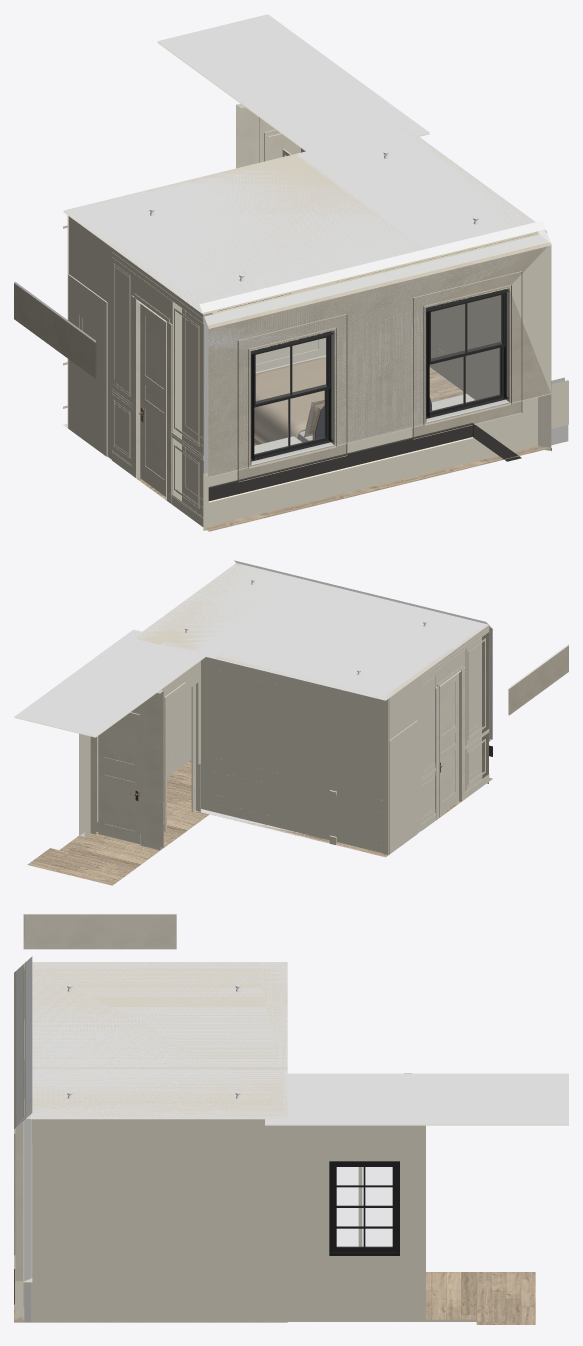
Rendered from blue-bedroom-c888a7fa9426.glb.
3 views of the same model, one above another, from view 1: azimuth 30°, elevation 25°; view 2: azimuth 150°, elevation 25°; view 3: azimuth 270°, elevation 25° (orthographic). The views are drawn at different scales.
Visible parts, largest first — view 1: blue-bedroom-9d91b47435c6fb33, blue-bedroom-bddaf205afbd60c0, blue-bedroom-look-9d91b47435c6fb33, blue-bedroom-e8793759323e04f0, blue-bedroom-df3e1f21720b0c39, blue-bedroom-2f7d8eff34a2c180, blue-bedroom-ed5fdcd3ee9c0dd5, blue-bedroom-3c3de67e8dd93323, blue-bedroom-649b3532e9781727, blue-bedroom-64753ebcb3824a84, blue-bedroom-746250f96522f643, blue-bedroom-ead09a0b3f9e3bd9 (+16 smaller); view 2: blue-bedroom-6e269356ae8bfd70, blue-bedroom-9d91b47435c6fb33, blue-bedroom-look-9d91b47435c6fb33, blue-bedroom-ed5fdcd3ee9c0dd5, blue-bedroom-e8793759323e04f0, blue-bedroom-look-2575515a05775d9e, blue-bedroom-look-dcc0092055abeaa8, blue-bedroom-look-eb02897c2e79e2b1, blue-bedroom-ead09a0b3f9e3bd9, blue-bedroom-3e649b0d114ae387, blue-bedroom-bf159a19de53e60e, blue-bedroom-746250f96522f643 (+13 smaller); view 3: blue-bedroom-746250f96522f643, blue-bedroom-9d91b47435c6fb33, blue-bedroom-e8793759323e04f0, blue-bedroom-look-746250f96522f643, blue-bedroom-look-9d91b47435c6fb33, blue-bedroom-look-5035c6783c6505b3, blue-bedroom-look-2575515a05775d9e, blue-bedroom-look-3a4d9d62ecd7be1c, blue-bedroom-0a6e1f8a567f4490, blue-bedroom-64753ebcb3824a84, blue-bedroom-2575515a05775d9e, blue-bedroom-49f6d498b24b79cd.
Part boxes in pixels (x1,y1,x2,y2): blue-bedroom-9d91b47435c6fb33: (63,127,538,314); blue-bedroom-bddaf205afbd60c0: (207,242,550,476); blue-bedroom-look-9d91b47435c6fb33: (157,14,429,151); blue-bedroom-e8793759323e04f0: (64,127,545,312); blue-bedroom-df3e1f21720b0c39: (208,243,551,475); blue-bedroom-2f7d8eff34a2c180: (203,393,551,530); blue-bedroom-ed5fdcd3ee9c0dd5: (67,215,181,500); blue-bedroom-3c3de67e8dd93323: (251,330,333,461); blue-bedroom-649b3532e9781727: (426,289,509,418); blue-bedroom-64753ebcb3824a84: (204,234,548,476); blue-bedroom-746250f96522f643: (398,234,532,399); blue-bedroom-ead09a0b3f9e3bd9: (68,274,107,456); blue-bedroom-6e269356ae8bfd70: (200,656,389,855); blue-bedroom-9d91b47435c6fb33: (134,564,488,700); blue-bedroom-look-9d91b47435c6fb33: (14,629,205,737); blue-bedroom-ed5fdcd3ee9c0dd5: (382,641,465,854); blue-bedroom-e8793759323e04f0: (136,560,488,699); blue-bedroom-look-2575515a05775d9e: (27,803,209,885); blue-bedroom-look-dcc0092055abeaa8: (98,712,140,844); blue-bedroom-look-eb02897c2e79e2b1: (90,690,163,850); blue-bedroom-ead09a0b3f9e3bd9: (389,720,417,854); blue-bedroom-3e649b0d114ae387: (465,625,488,790); blue-bedroom-bf159a19de53e60e: (440,673,458,814); blue-bedroom-746250f96522f643: (161,672,191,779); blue-bedroom-746250f96522f643: (32,1119,287,1319); blue-bedroom-9d91b47435c6fb33: (24,962,287,1119); blue-bedroom-e8793759323e04f0: (25,956,287,1118); blue-bedroom-look-746250f96522f643: (287,1125,425,1319); blue-bedroom-look-9d91b47435c6fb33: (265,1073,568,1125); blue-bedroom-look-5035c6783c6505b3: (329,1161,399,1255); blue-bedroom-look-2575515a05775d9e: (287,1272,535,1324); blue-bedroom-look-3a4d9d62ecd7be1c: (23,914,176,949); blue-bedroom-0a6e1f8a567f4490: (15,1121,22,1281); blue-bedroom-64753ebcb3824a84: (16,964,23,1126); blue-bedroom-2575515a05775d9e: (14,1269,287,1322); blue-bedroom-49f6d498b24b79cd: (24,1118,30,1281).
Bounding box in the file's own units: 6.73 × 3.04 × 7.3.
Materials: 36 (9 with a texture image).
